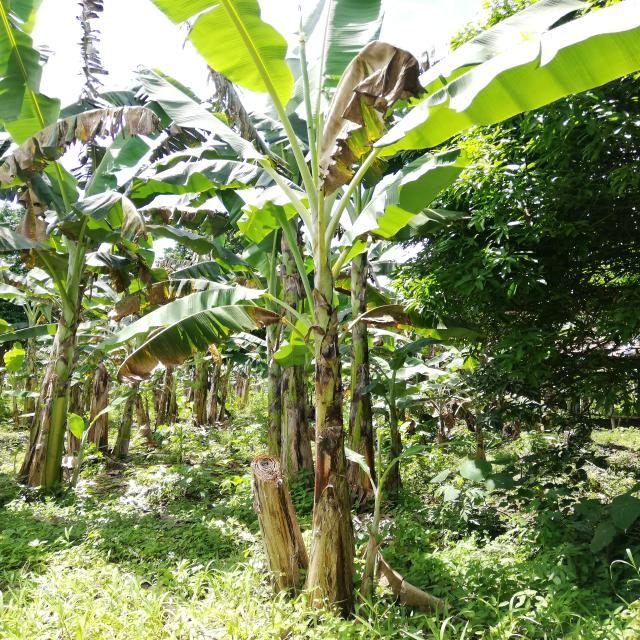Banana-plant: (294, 210, 349, 621), (334, 216, 403, 509), (25, 247, 91, 512)
